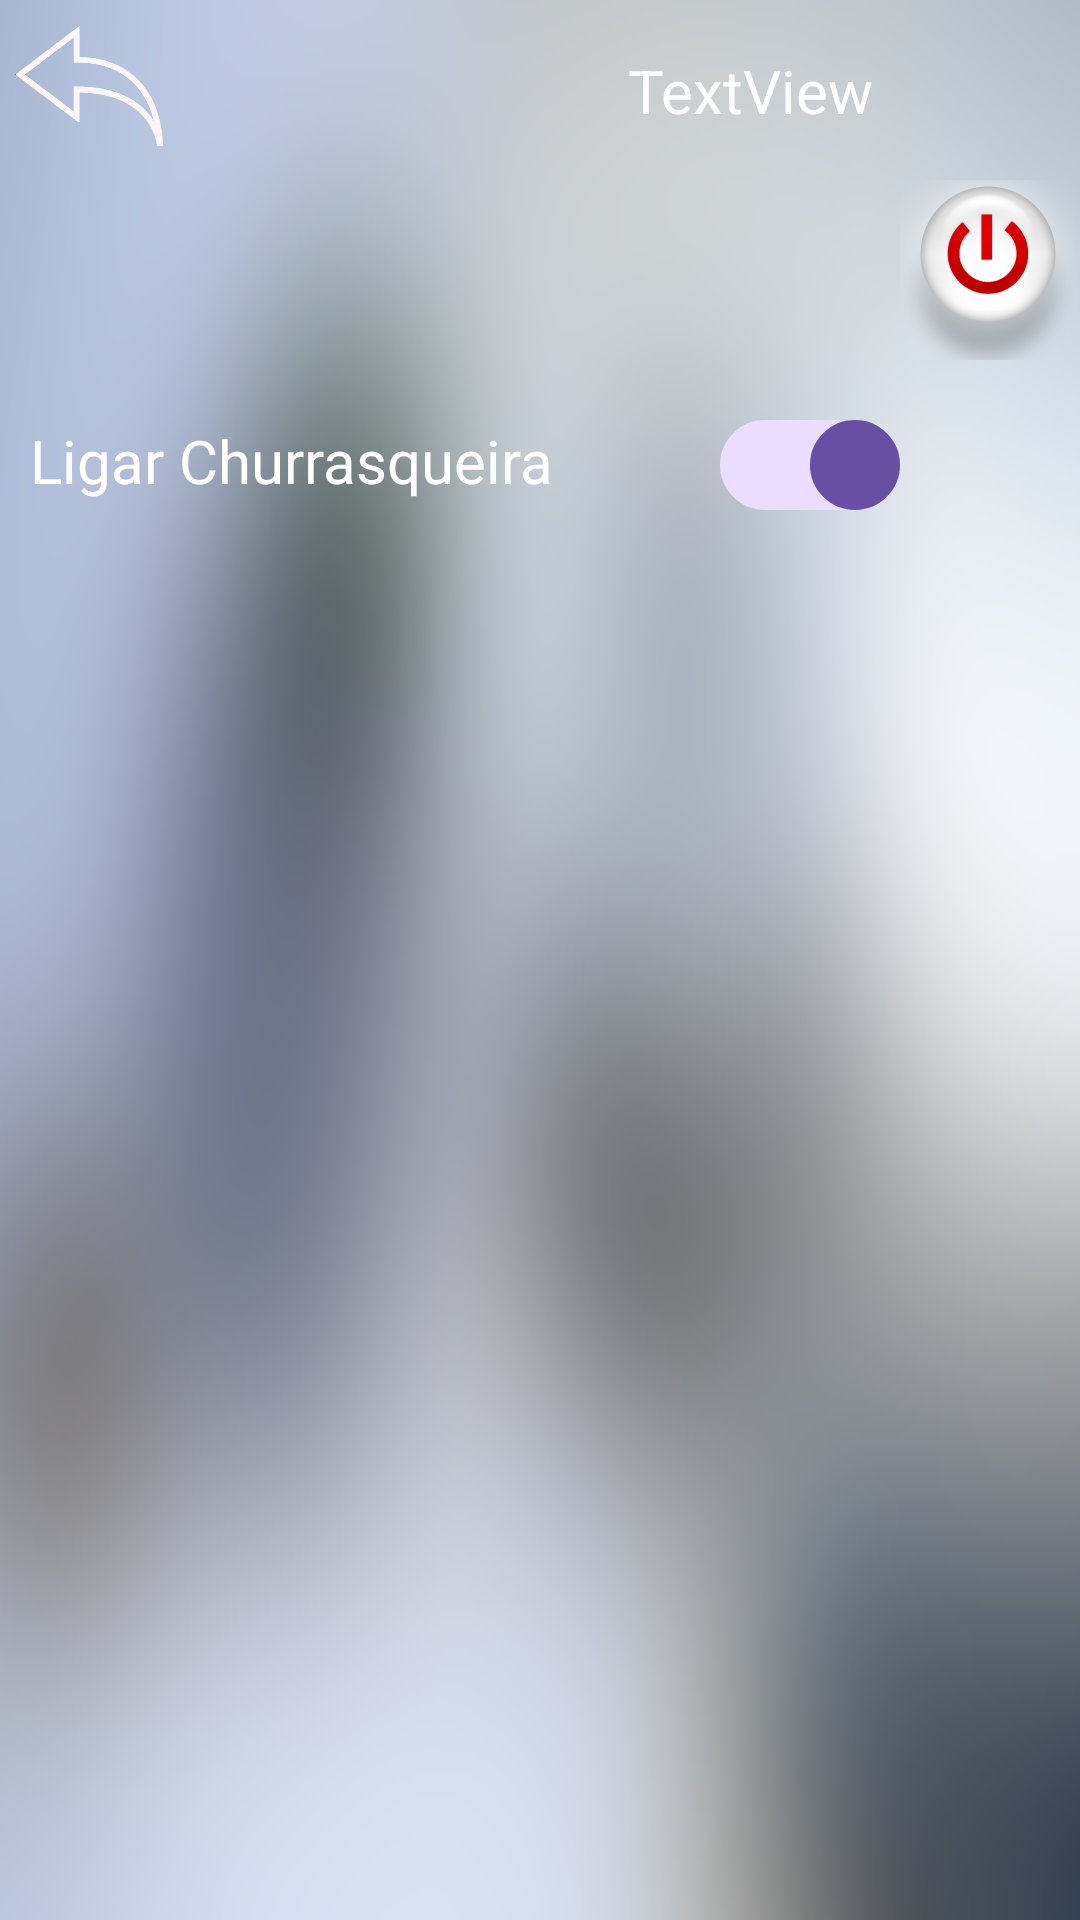

Icon bounding boxes for this 1080×1920 phone screenshot, format (x1, y1, x2, y2):
back: (15, 26, 163, 146)
off: (921, 187, 1055, 355)
